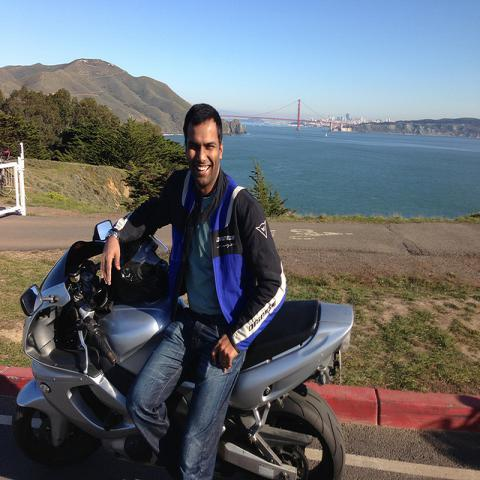motorcycle: (15, 237, 356, 474)
